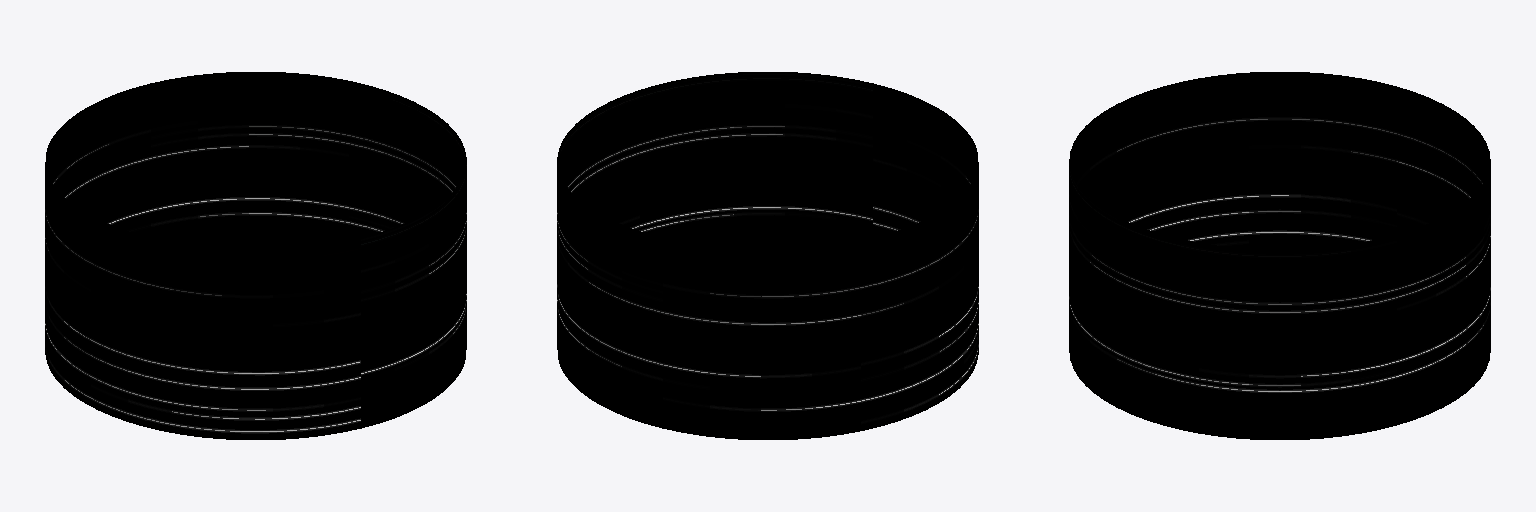
3 views of the same model, side by side, from view 1: azimuth 30°, elevation 25°; view 2: azimuth 150°, elevation 25°; view 3: azimuth 270°, elevation 25° (orthographic).
Visible parts, largest first — view 1: cylinder1; view 2: cylinder1; view 3: cylinder1.
Part boxes in pixels (x1,y1,x2,y2): cylinder1: (45, 72, 466, 439); cylinder1: (557, 72, 978, 439); cylinder1: (1069, 72, 1490, 439).
Bounding box in the file's own units: 2 × 1 × 2.
1 materials, 1 textured.